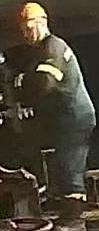helmet: (14, 0, 49, 22)
vest: (23, 35, 96, 134)
